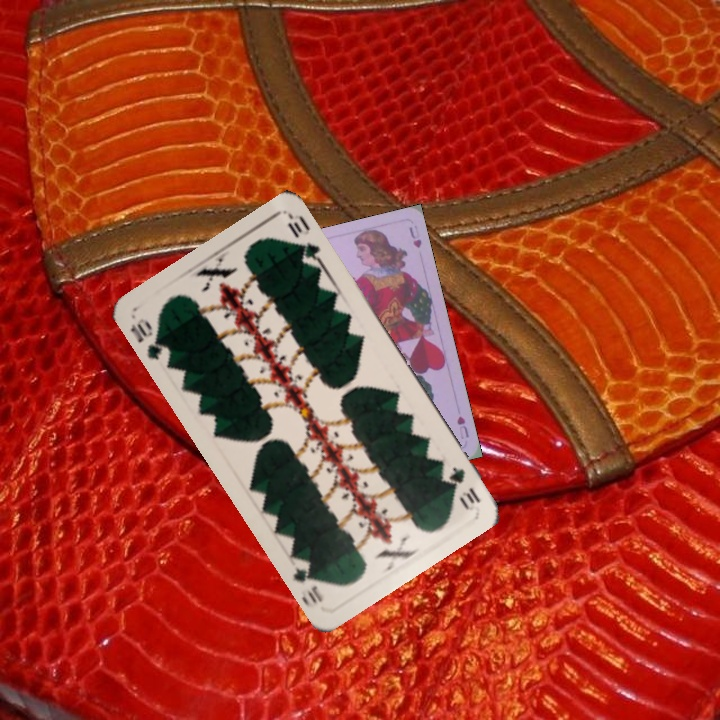G10: (126, 314, 174, 364), (444, 462, 484, 511)
HU: (453, 412, 472, 441)
